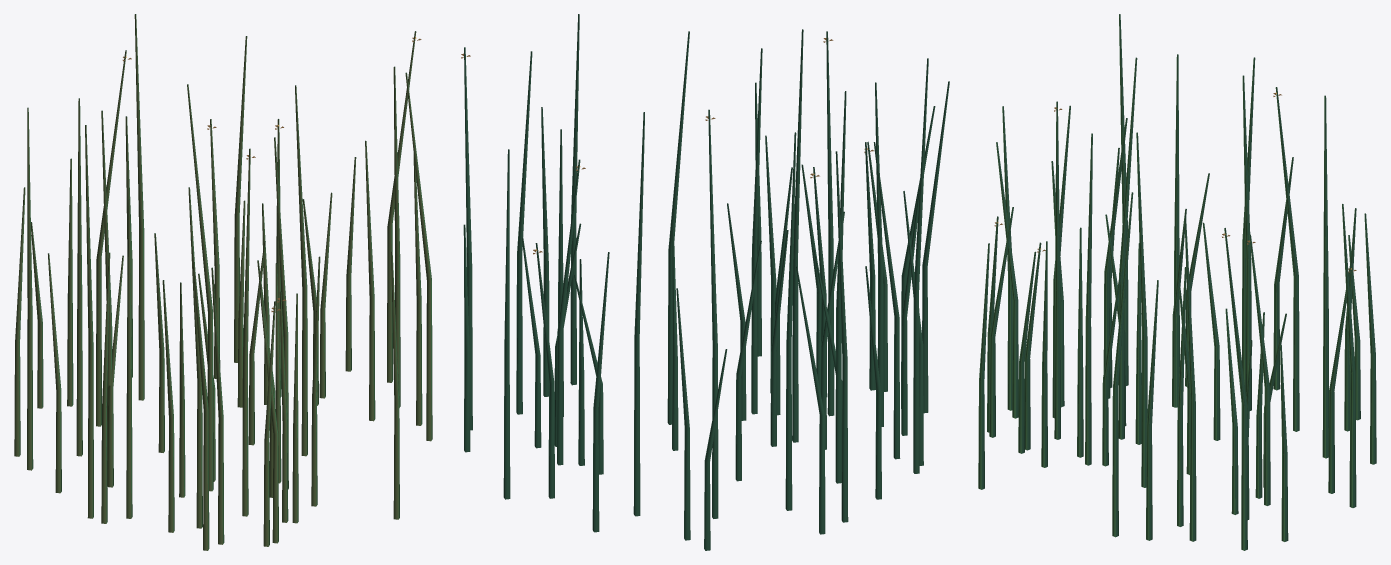
The model's file is Wetland_03_Juncos_Dense_LOD1.glb.
3 views of the same model, side by side, from view 1: azimuth 30°, elevation 25°; view 2: azimuth 150°, elevation 25°; view 3: azimuth 270°, elevation 25° (orthographic). The views are drawn at different scales.
Visible parts, largest first — view 1: Wetland_03_Juncos_Dense_LOD1; view 2: Wetland_03_Juncos_Dense_LOD1; view 3: Wetland_03_Juncos_Dense_LOD1.
Boxes of the visible parts, left/top/right/bottom form: Wetland_03_Juncos_Dense_LOD1: left=14, top=14, right=432, bottom=550; Wetland_03_Juncos_Dense_LOD1: left=461, top=14, right=949, bottom=550; Wetland_03_Juncos_Dense_LOD1: left=978, top=14, right=1376, bottom=550.
Bounding box in the file's own units: 2 × 1.97 × 1.9.
